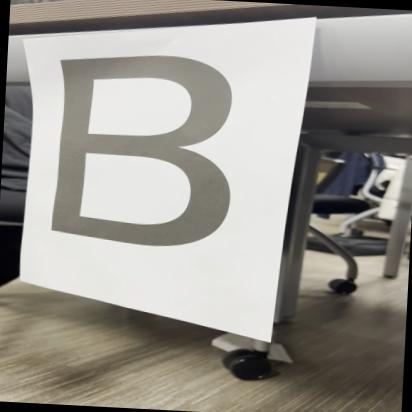seat: (18, 40, 272, 270)
